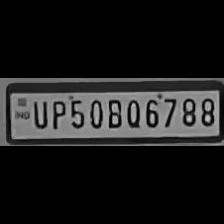0: (86, 96, 104, 128)
5: (67, 96, 85, 130)
6: (141, 95, 159, 127)
7: (160, 95, 176, 127)
8: (198, 94, 216, 128), (179, 95, 197, 127)
B: (104, 96, 124, 128)
P: (48, 97, 66, 129)
Q: (124, 96, 142, 128)
U: (30, 97, 48, 128)
